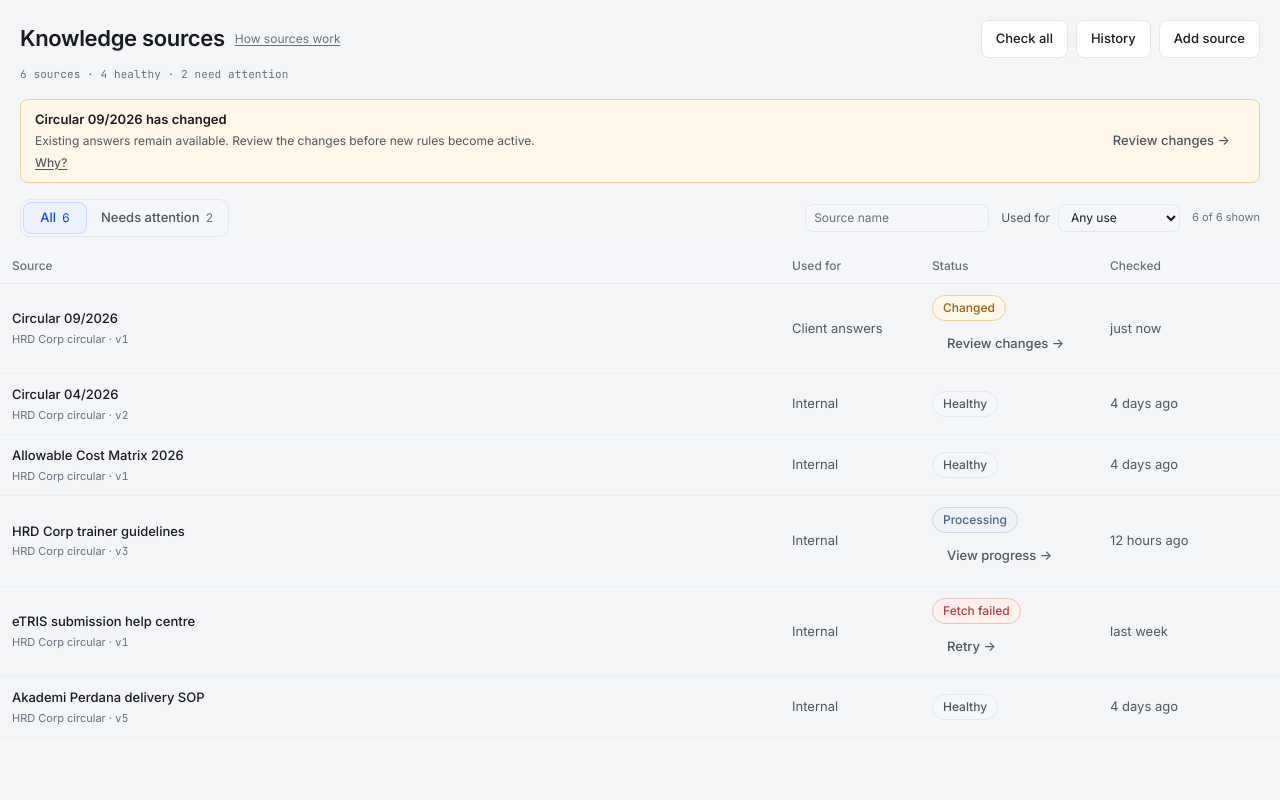
Test: M16-S05 · knowledge sources › gives the one solid primary to the drawer's submit, not to the button that opens it
This screenshot has width=1280, height=800.
Click the button "Add source" at (1209, 39), box [1159, 20, 1260, 58]
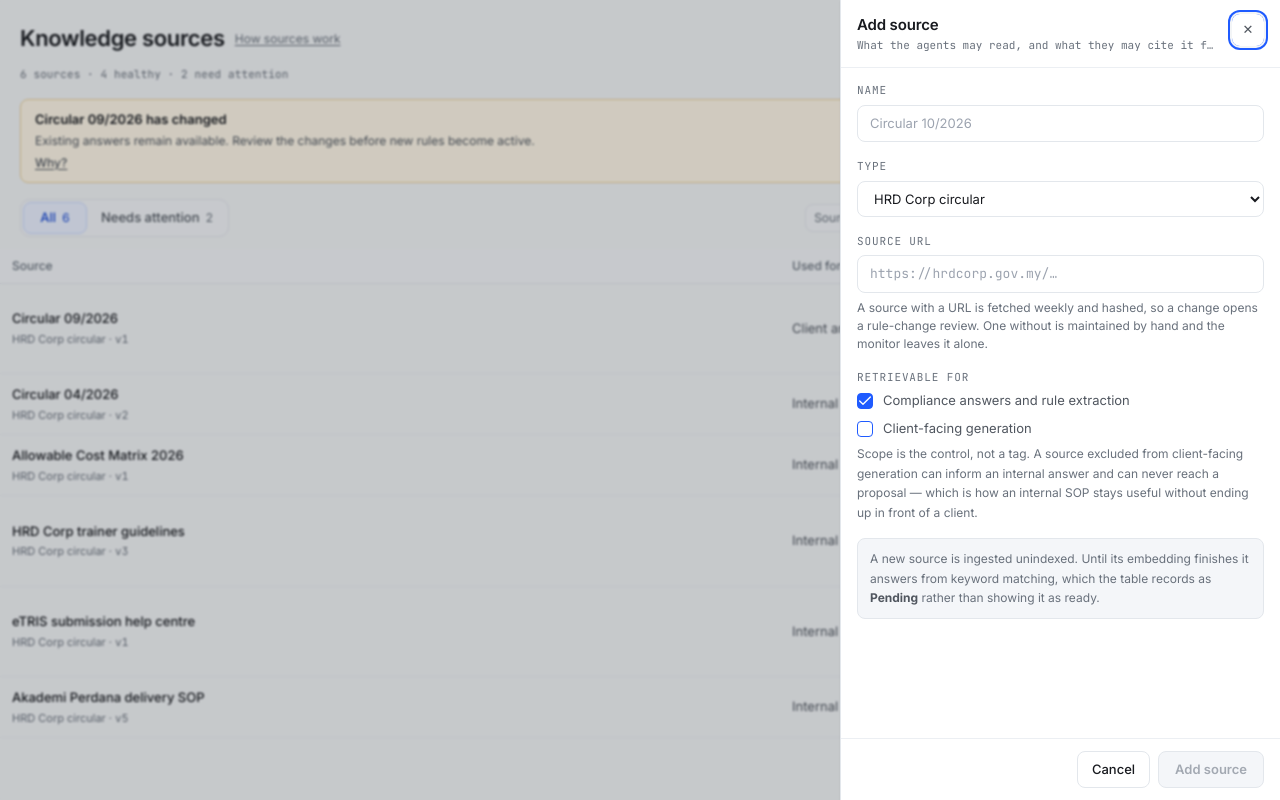
Expected: the dialog is shown, [840, 0, 1279, 799]
